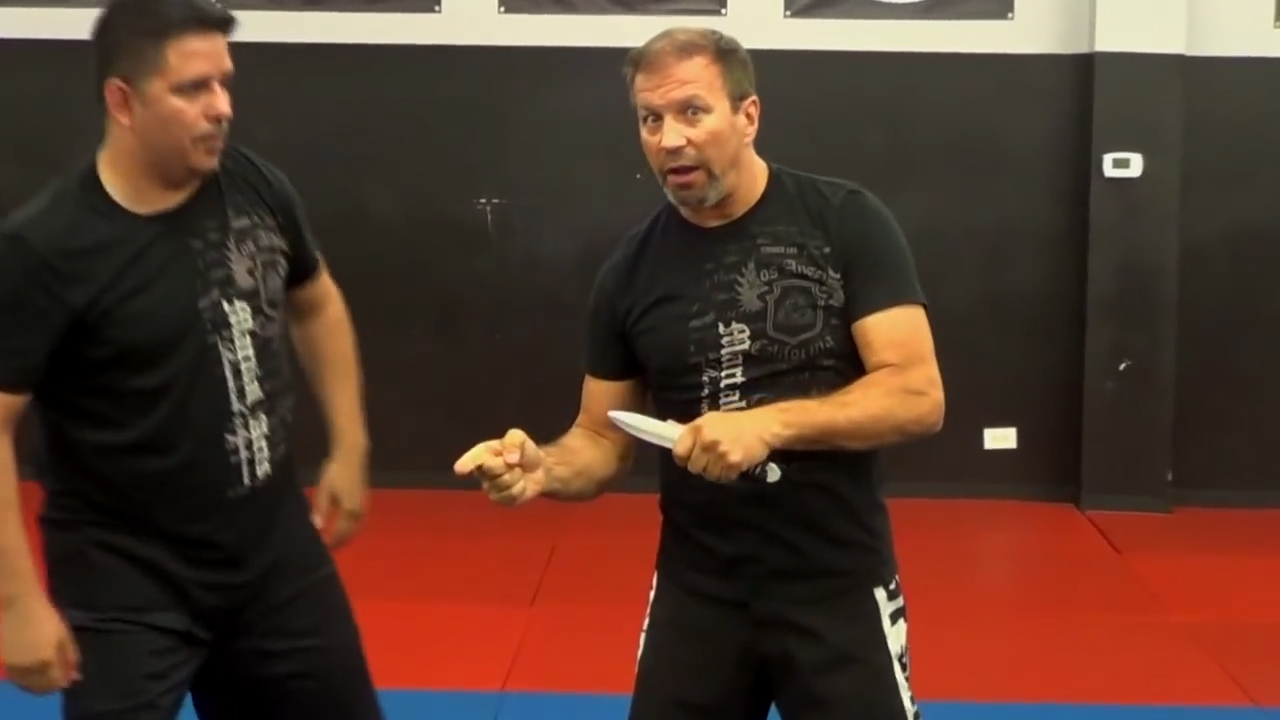knife: (596, 398, 801, 494)
